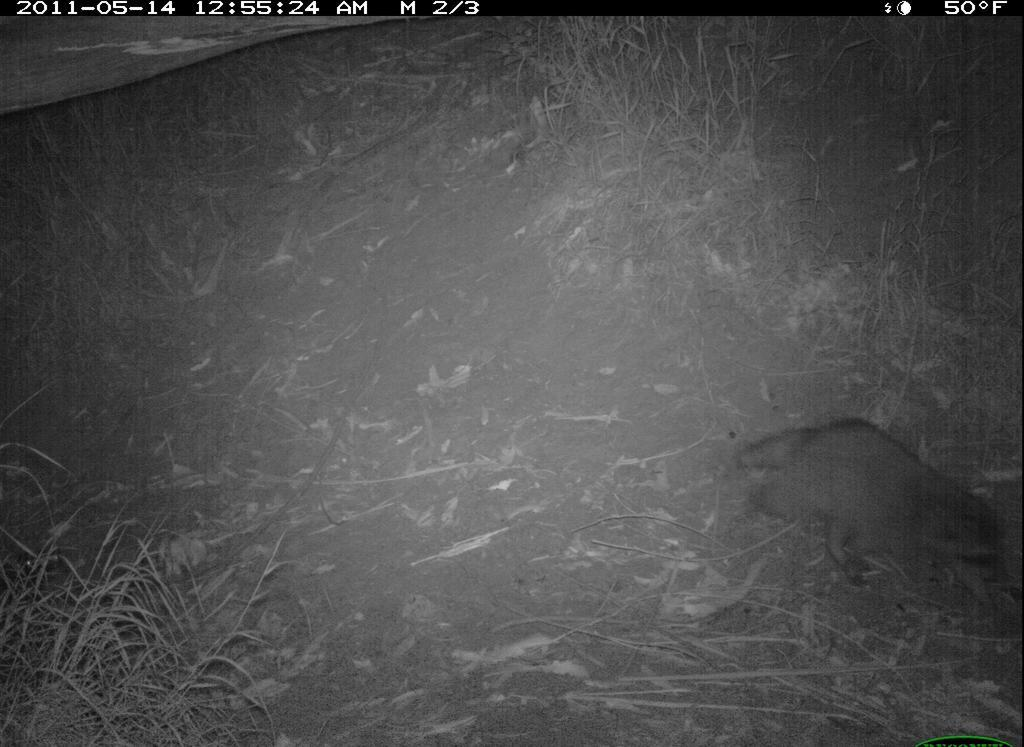raccoon: (722, 402, 1021, 621)
